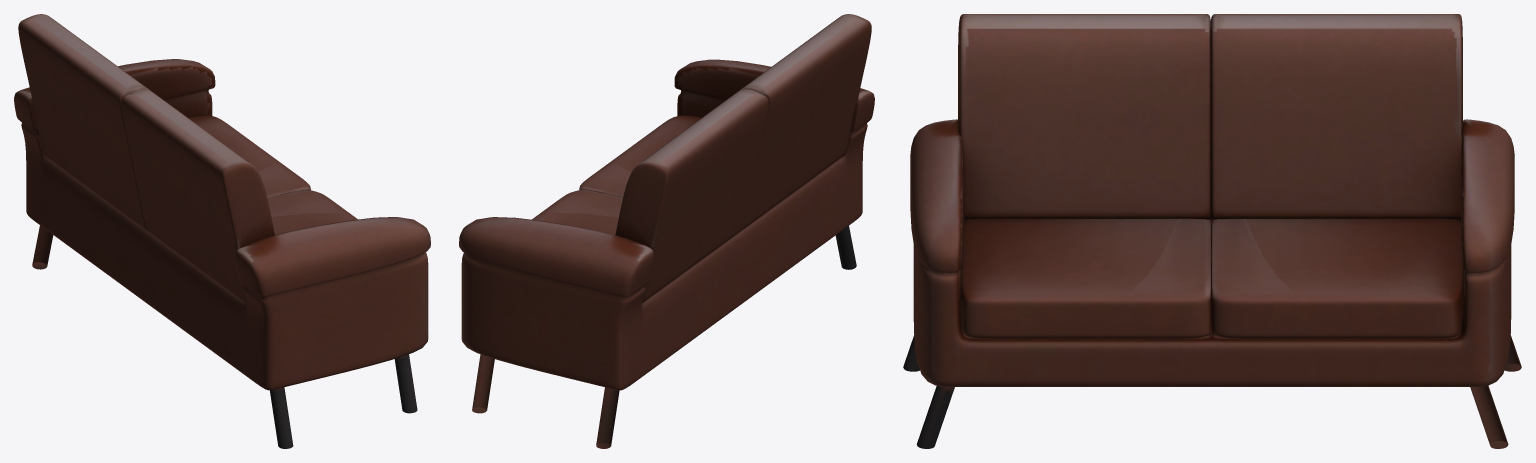
File: sofa.glb
3 renders of one model, left to right at view 1: azimuth 30°, elevation 25°; view 2: azimuth 150°, elevation 25°; view 3: azimuth 270°, elevation 25°, orthographic. The views are drawn at different scales.
Parts seen in each view (by area): view 1: 2 Person sofa, 2 Person sofa.001, 2 Person sofa.004, 2 Person sofa.003, 2 Person sofa.002; view 2: 2 Person sofa, 2 Person sofa.004, 2 Person sofa.001, 2 Person sofa.002, 2 Person sofa.003; view 3: 2 Person sofa, 2 Person sofa.004, 2 Person sofa.001, 2 Person sofa.003, 2 Person sofa.002.
Boxes of the visible parts, x1,y1,x2,y2 form: 2 Person sofa: (14, 59, 430, 448); 2 Person sofa.001: (121, 89, 274, 302); 2 Person sofa.004: (18, 14, 150, 228); 2 Person sofa.003: (188, 115, 310, 197); 2 Person sofa.002: (267, 190, 357, 234); 2 Person sofa: (459, 59, 874, 448); 2 Person sofa.004: (615, 89, 768, 302); 2 Person sofa.001: (739, 14, 871, 228); 2 Person sofa.002: (579, 115, 701, 197); 2 Person sofa.003: (532, 189, 622, 235); 2 Person sofa: (903, 119, 1521, 448); 2 Person sofa.004: (1210, 14, 1462, 219); 2 Person sofa.001: (958, 14, 1210, 219); 2 Person sofa.003: (1211, 218, 1462, 338); 2 Person sofa.002: (961, 218, 1211, 338).
Size of the model in its own units: 0.4552 by 0.5961 by 1.
Materials: 1 (1 with a texture image).
